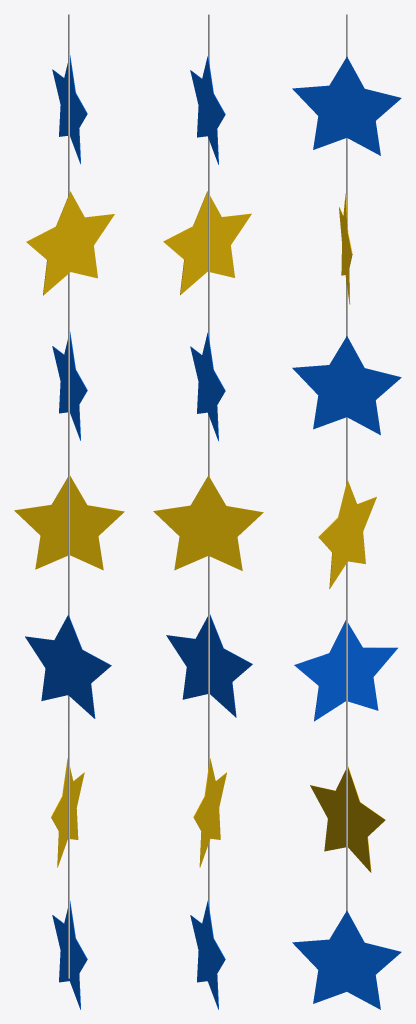
Rendered from PartyHangings01C_5.FBX.
The picture shows the model from 3 angles, left to right: view 1: azimuth 30°, elevation 25°; view 2: azimuth 210°, elevation 25°; view 3: azimuth 270°, elevation 25°; orthographic projection.
Visible parts, largest first — view 1: PartyHangings01C_5; view 2: PartyHangings01C_5; view 3: PartyHangings01C_5.
Part boxes in pixels (left/top/right/bottom): PartyHangings01C_5: left=14, top=14, right=124, bottom=1009; PartyHangings01C_5: left=153, top=14, right=263, bottom=1009; PartyHangings01C_5: left=292, top=14, right=401, bottom=1009.
Size of what is drawn, in the model's own units: 0.0836 by 0.822 by 0.0825.
